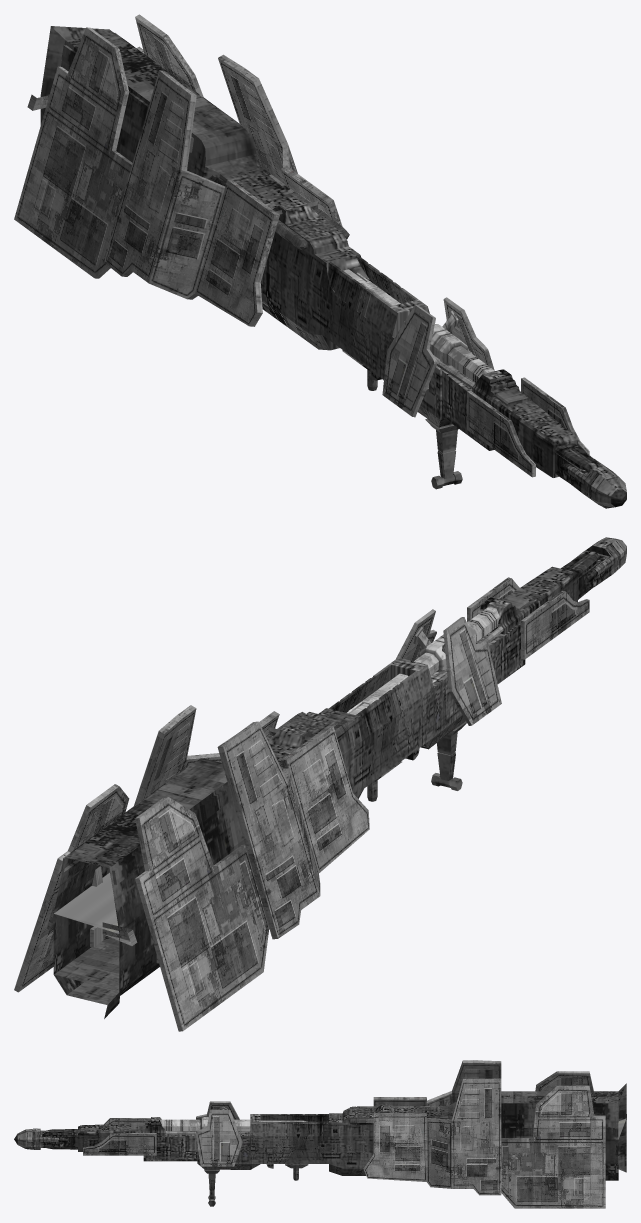
File: derriphan_chunk1.glb
3 views of the same model, one above another, from view 1: azimuth 30°, elevation 25°; view 2: azimuth 150°, elevation 25°; view 3: azimuth 270°, elevation 25° (orthographic). The views are drawn at different scales.
Visible parts, largest first — view 1: derriphan_chunk1_0; view 2: derriphan_chunk1_0; view 3: derriphan_chunk1_0.
Boxes of the visible parts, <box> form: derriphan_chunk1_0: <box>14,14,626,508</box>; derriphan_chunk1_0: <box>14,537,626,1031</box>; derriphan_chunk1_0: <box>14,1060,626,1208</box>.
Size of the model in its own units: 58.36 by 74.1 by 309.
1 material, 1 textured.
